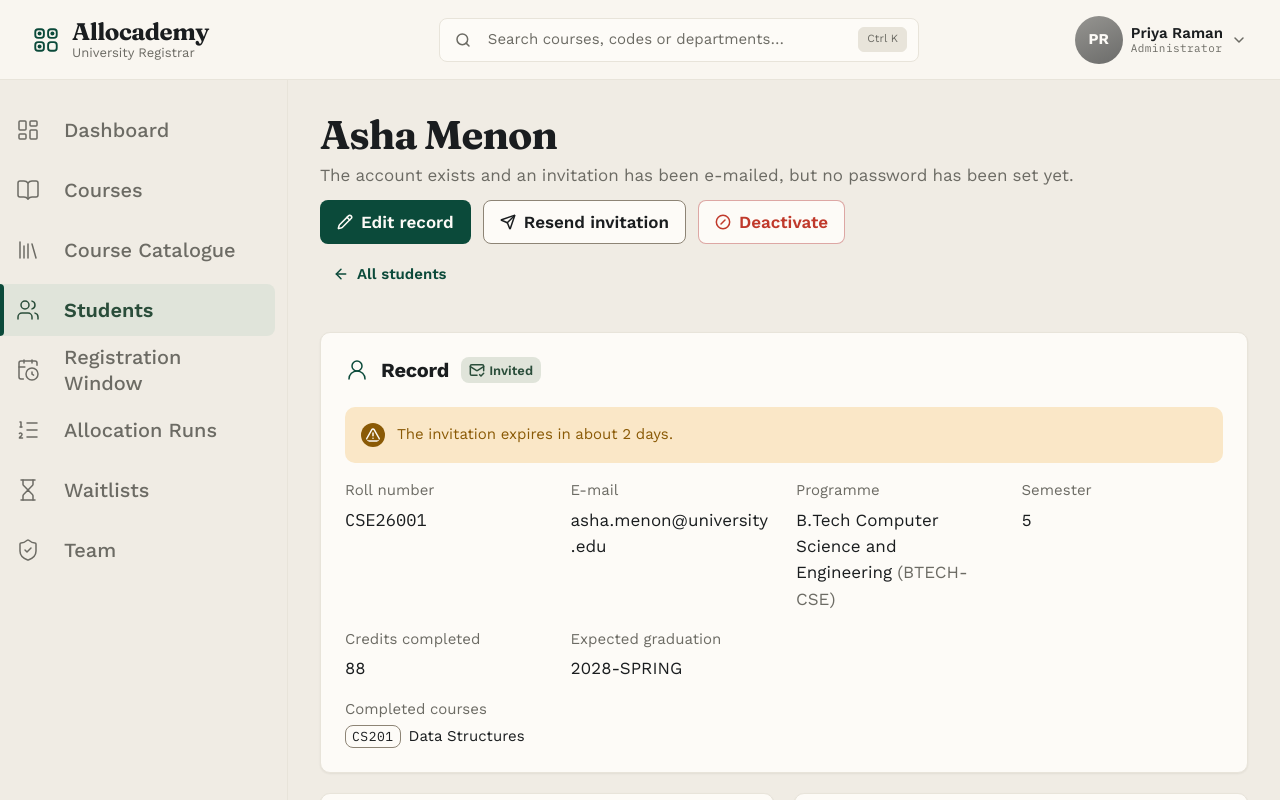
Test case: AdminStudentDetailPage › resends the invitation and reports what that means
Click the button "Resend invitation" at (584, 222), box [483,200,686,244]
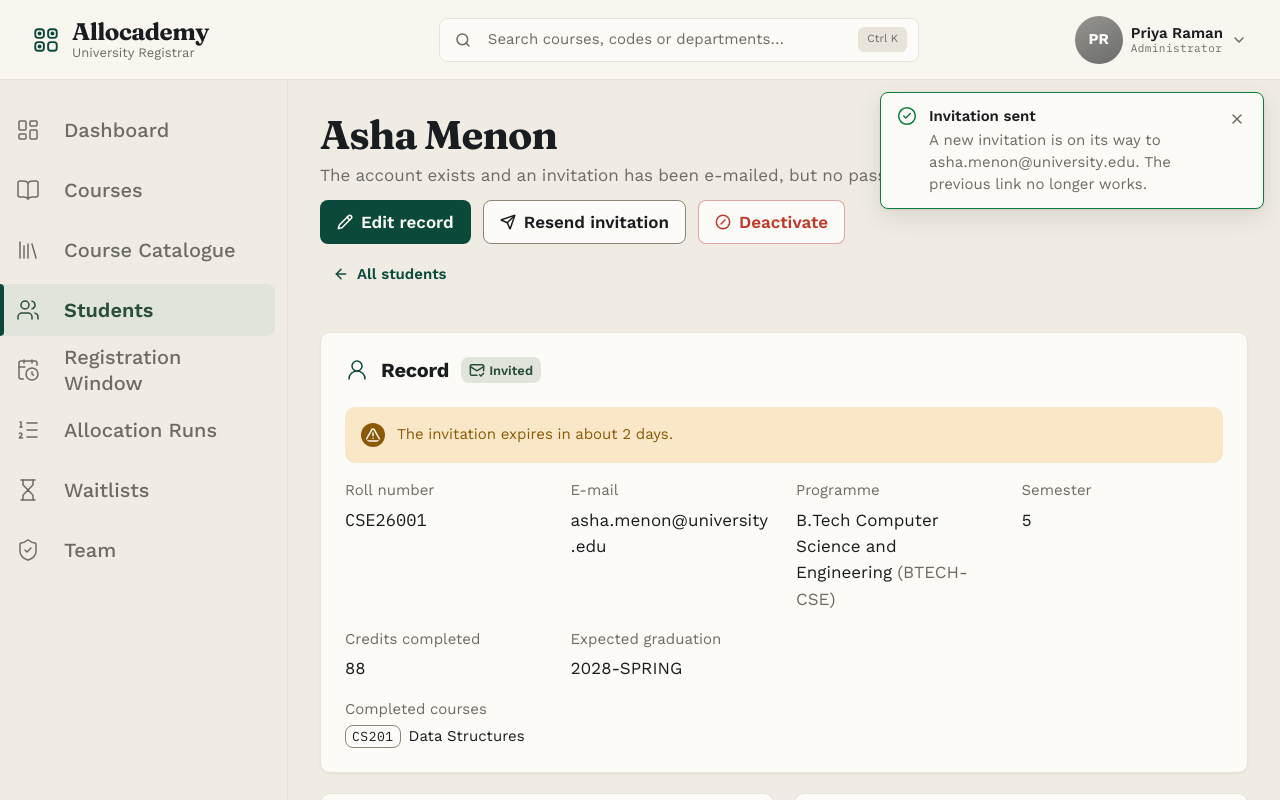
Now the text "The previous link no longer works" is shown, box [929,131,1171,193]
